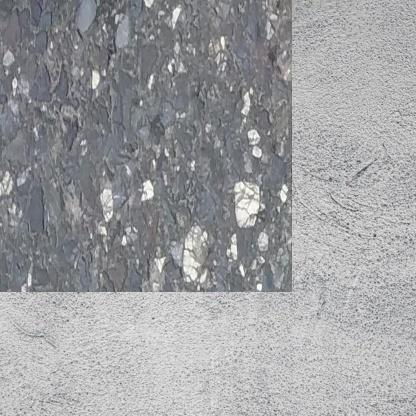Cracks: (82, 0, 132, 26)
